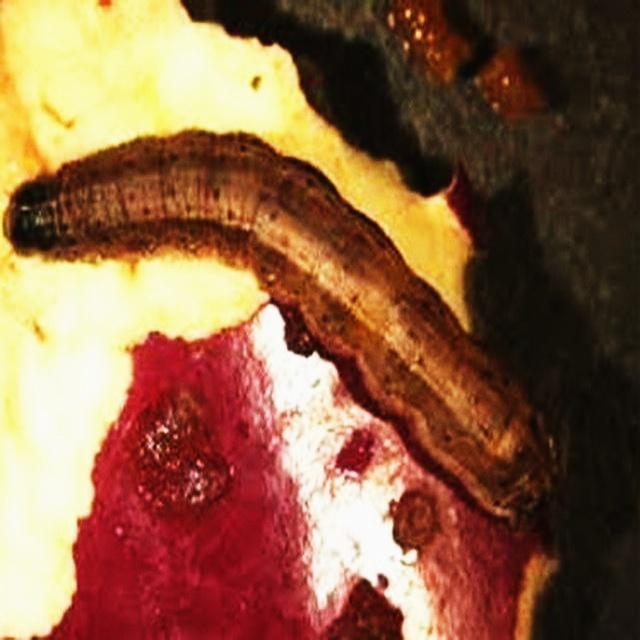gusano_cogollero: (2, 120, 566, 532)
